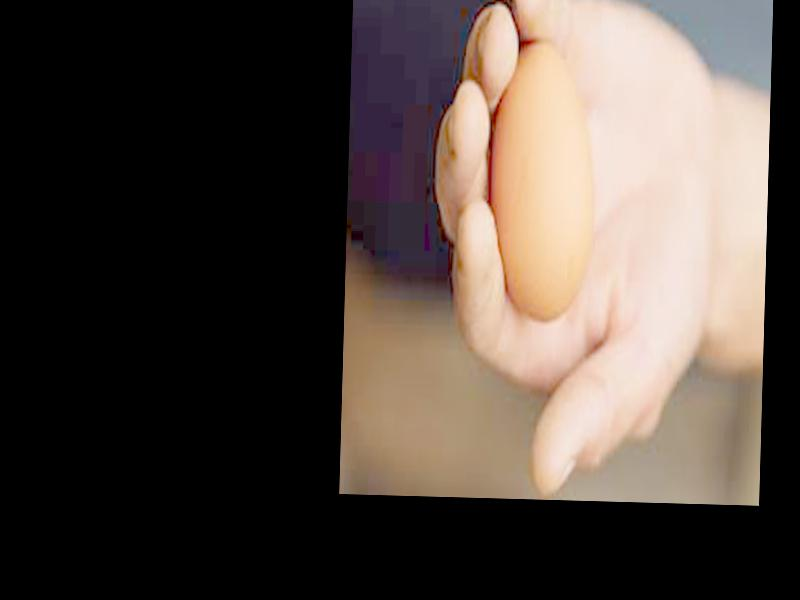Eggs: (490, 38, 597, 320)
